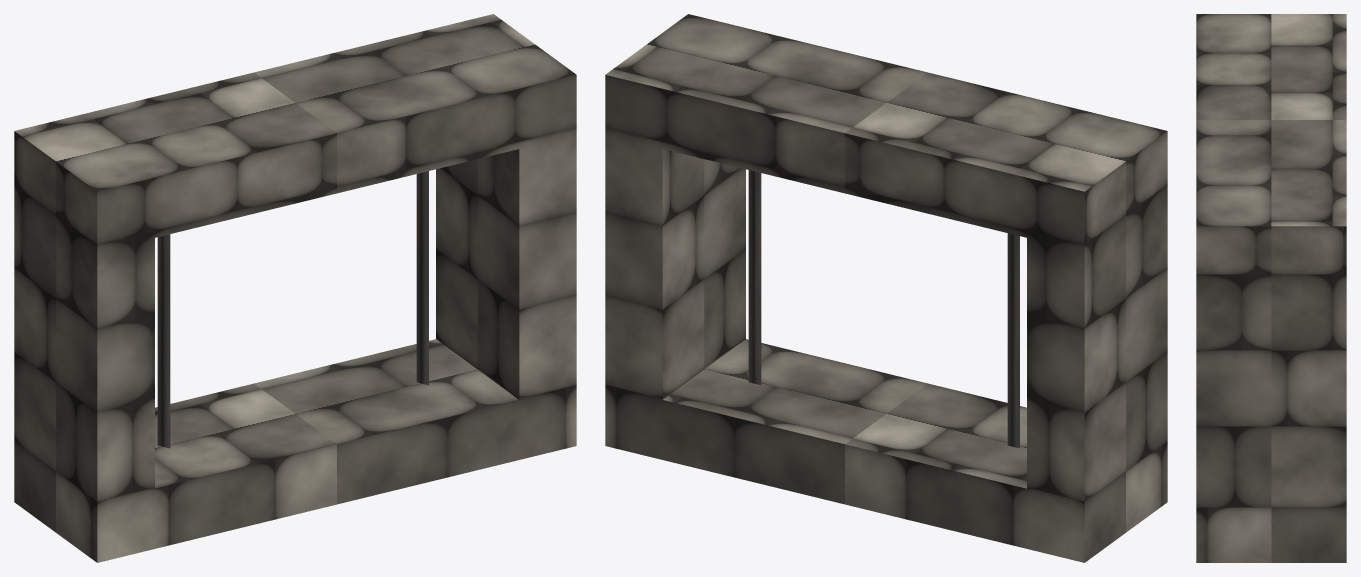
File: Dungeon_Window_1_LOD2.gltf
3 views of the same model, side by side, from view 1: azimuth 30°, elevation 25°; view 2: azimuth 150°, elevation 25°; view 3: azimuth 270°, elevation 25° (orthographic). The views are drawn at different scales.
Visible parts, largest first — view 1: Dungeon_Window_1_LOD2; view 2: Dungeon_Window_1_LOD2; view 3: Dungeon_Window_1_LOD2.
Part boxes in pixels (x1,y1,x2,y2): Dungeon_Window_1_LOD2: (14,14,576,562); Dungeon_Window_1_LOD2: (605,14,1167,562); Dungeon_Window_1_LOD2: (1196,14,1346,562).
Size of the model in its own units: 1 by 0.74 by 0.3.
2 materials, 2 textured.
